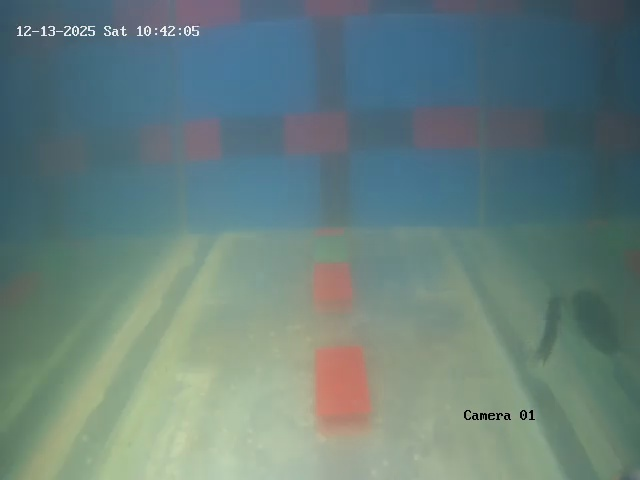fish: (531, 297, 574, 366)
